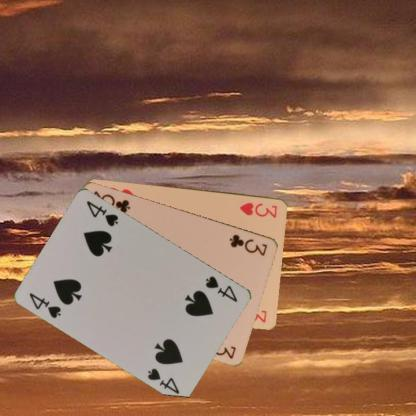3c: (226, 231, 269, 257)
3h: (238, 199, 278, 219)
4s: (203, 273, 239, 303), (27, 290, 63, 320)
